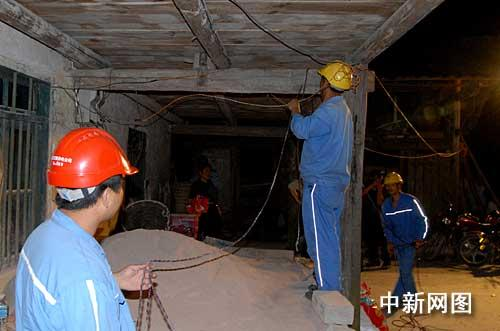boots: (305, 283, 318, 299)
hard-hat: (46, 126, 139, 188), (317, 60, 353, 90), (383, 170, 403, 184)
person: (13, 127, 157, 331), (287, 60, 355, 299), (378, 171, 429, 314), (184, 161, 222, 241)
ppe-suit: (13, 208, 137, 330), (289, 94, 354, 291), (379, 191, 429, 311)
